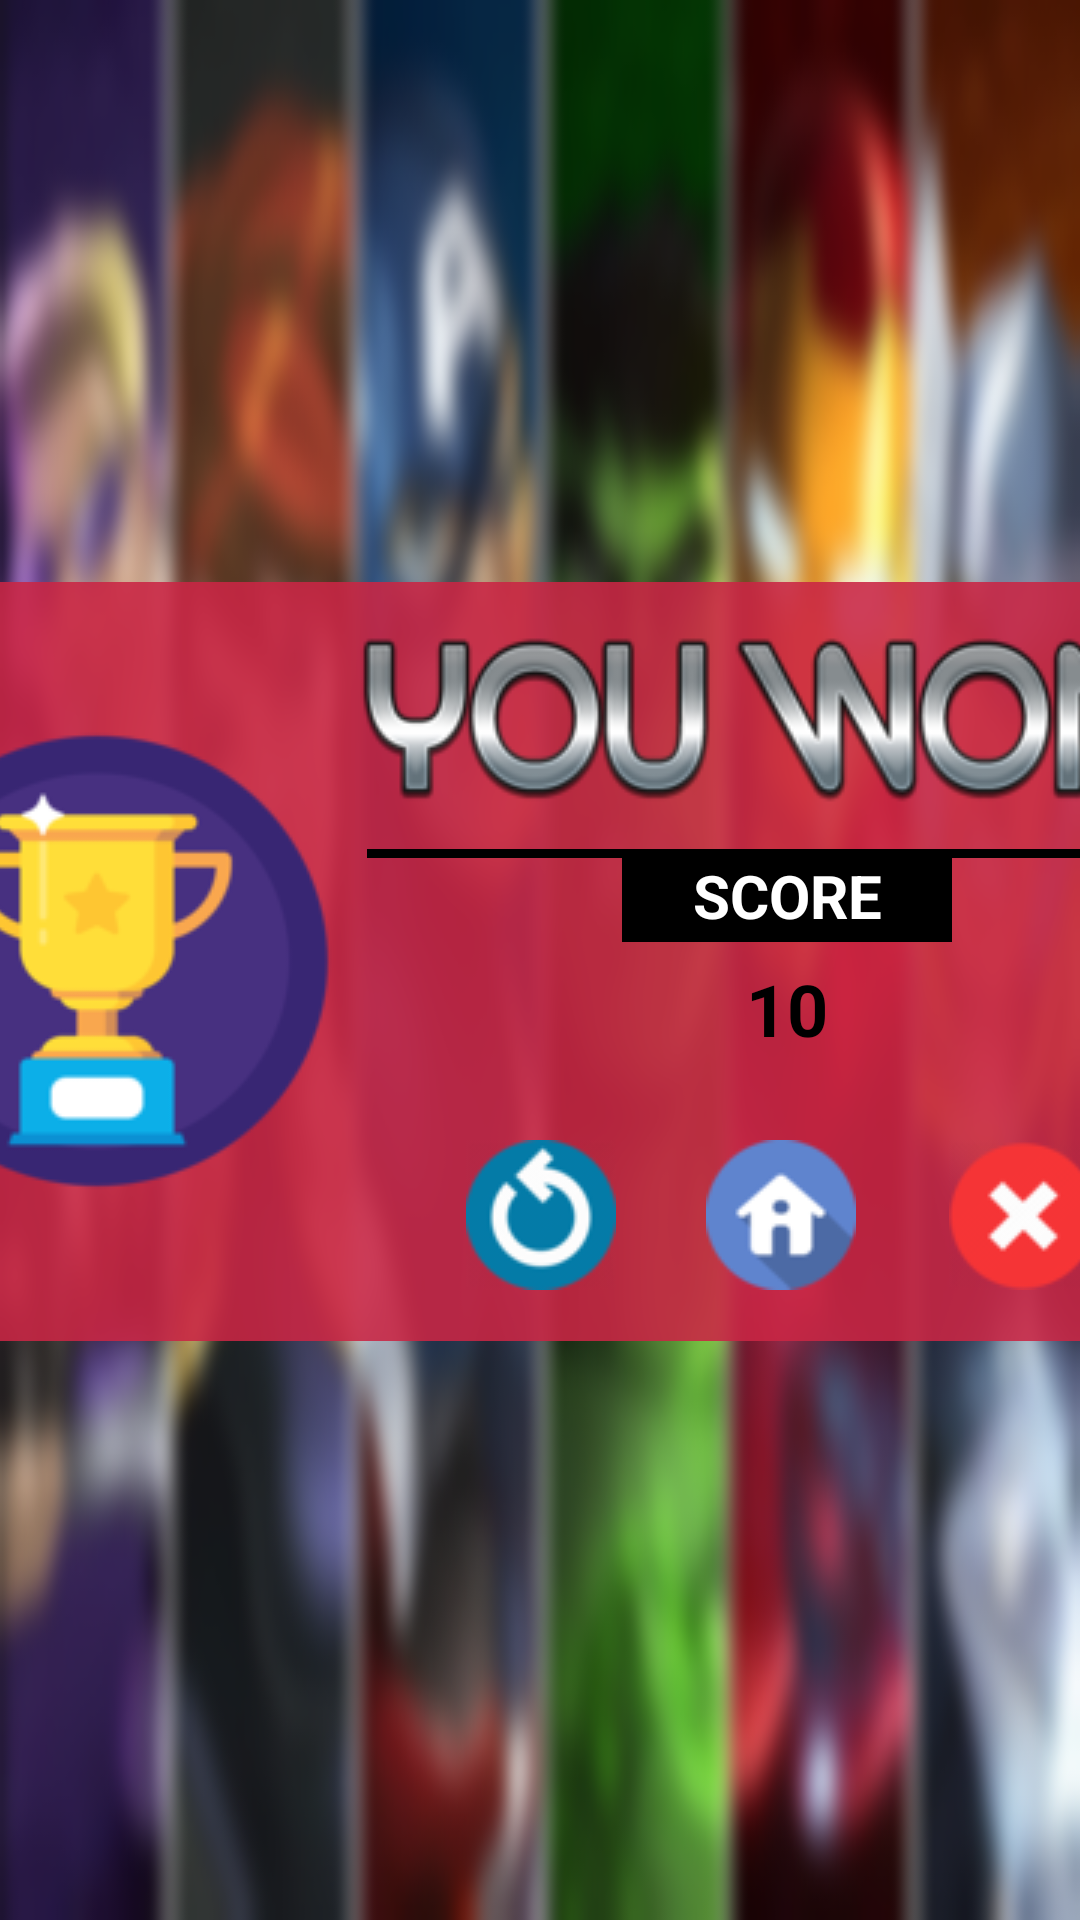

Screen size 1080px×1920px. Icon name, then its box in pixels as [left=x1, top=y1, right=x2, bottom=y2]:
home: [left=706, top=1140, right=856, bottom=1290]
reload: [left=466, top=1140, right=616, bottom=1290]
